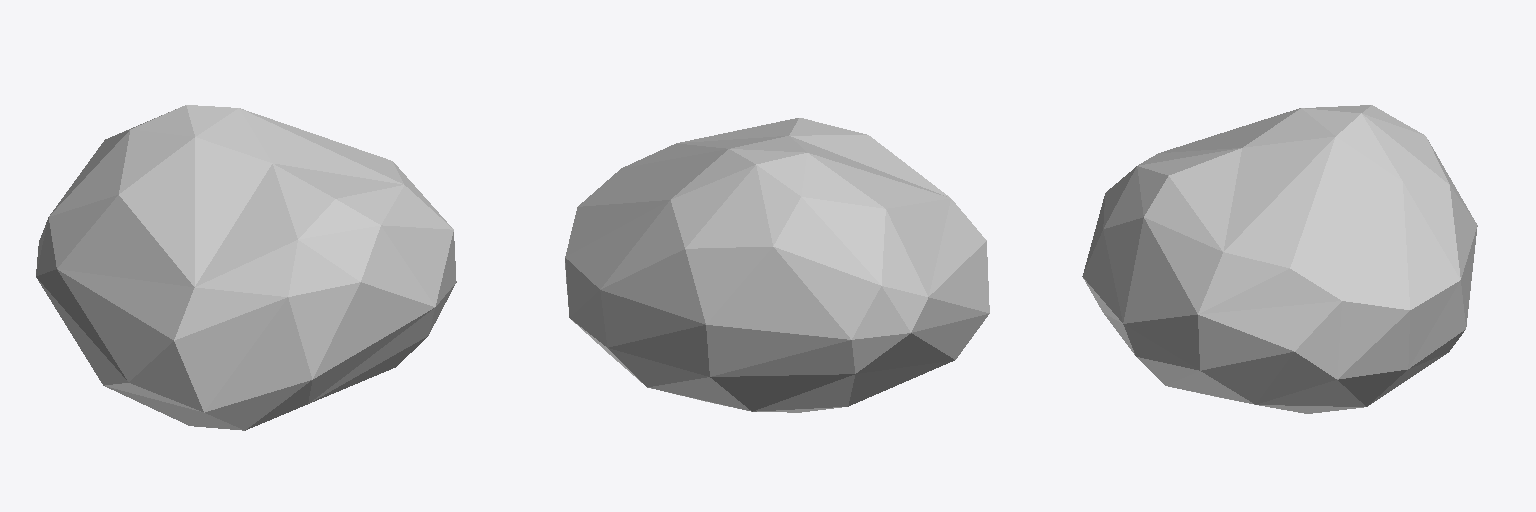
Rendered from Rock2.obj.
The picture shows the model from 3 angles: view 1: azimuth 30°, elevation 25°; view 2: azimuth 150°, elevation 25°; view 3: azimuth 270°, elevation 25°; orthographic projection.
Parts seen in each view (by area): view 1: Sphere; view 2: Sphere; view 3: Sphere.
Part boxes in pixels (x1,y1,x2,y2): Sphere: (36,105,456,430); Sphere: (565,118,989,412); Sphere: (1082,105,1477,413).
Size of the model in its own units: 3.88 by 2.62 by 3.65.